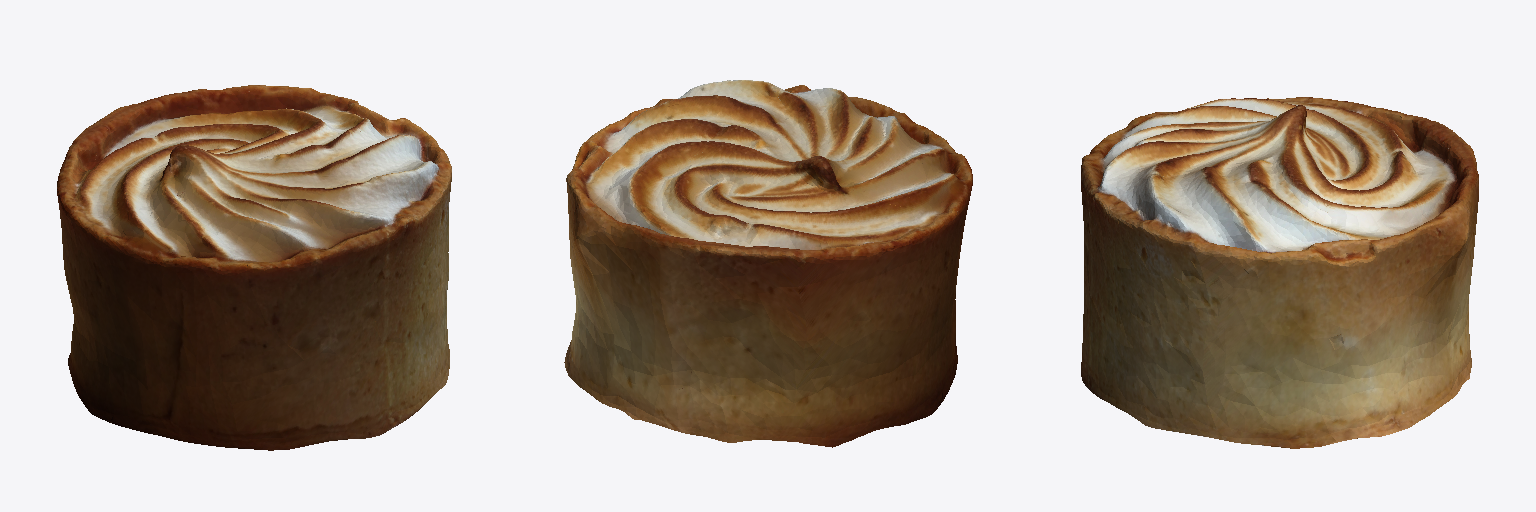
3 views of the same model, side by side, from view 1: azimuth 30°, elevation 25°; view 2: azimuth 150°, elevation 25°; view 3: azimuth 270°, elevation 25° (orthographic).
Parts seen in each view (by area): view 1: sculpt.001; view 2: sculpt.001; view 3: sculpt.001.
Boxes of the visible parts, box(x1,y1,x2,y2) form: sculpt.001: box(57, 85, 451, 450); sculpt.001: box(564, 80, 972, 447); sculpt.001: box(1081, 97, 1478, 448).
Bounding box in the file's own units: 23.45 × 15.28 × 23.23.
1 materials, 1 textured.